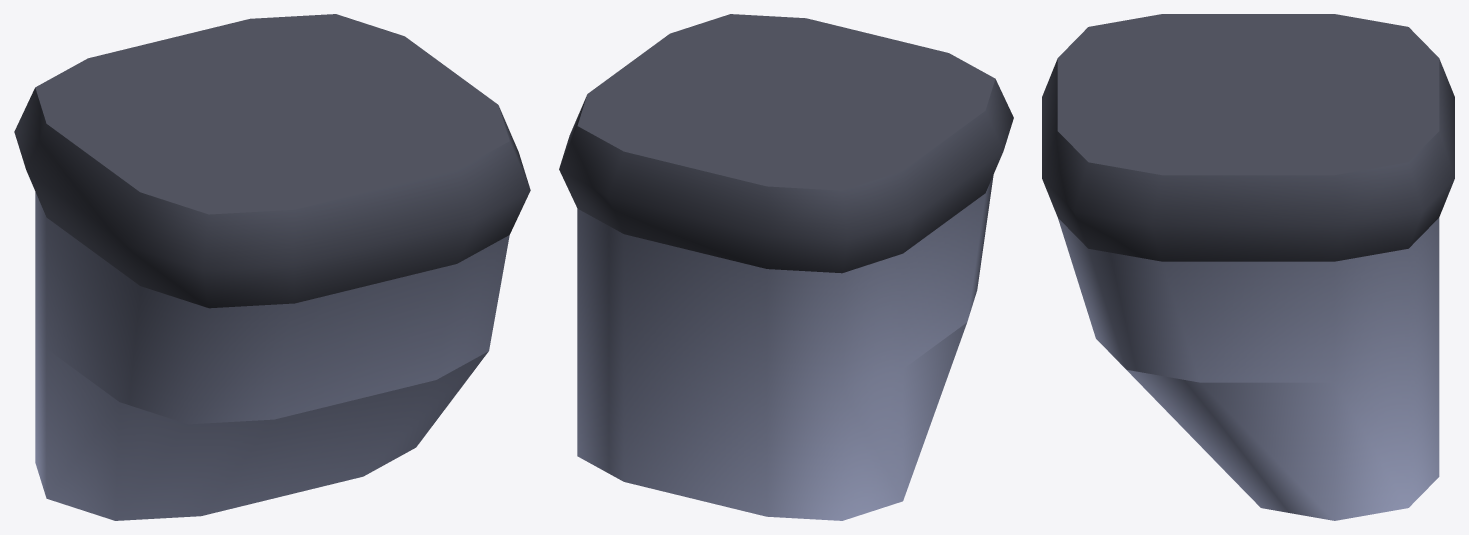
File: block-snow-edge.glb
3 renders of one model, left to right at view 1: azimuth 30°, elevation 25°; view 2: azimuth 150°, elevation 25°; view 3: azimuth 270°, elevation 25°, orthographic. The views are drawn at different scales.
Visible parts, largest first — view 1: block-snow-edge; view 2: block-snow-edge; view 3: block-snow-edge.
Boxes of the visible parts, bbox=[...] form: block-snow-edge: bbox=[14, 14, 530, 520]; block-snow-edge: bbox=[559, 14, 1013, 520]; block-snow-edge: bbox=[1042, 14, 1454, 520].
Bounding box in the file's own units: 1.08 × 1 × 1.08.
